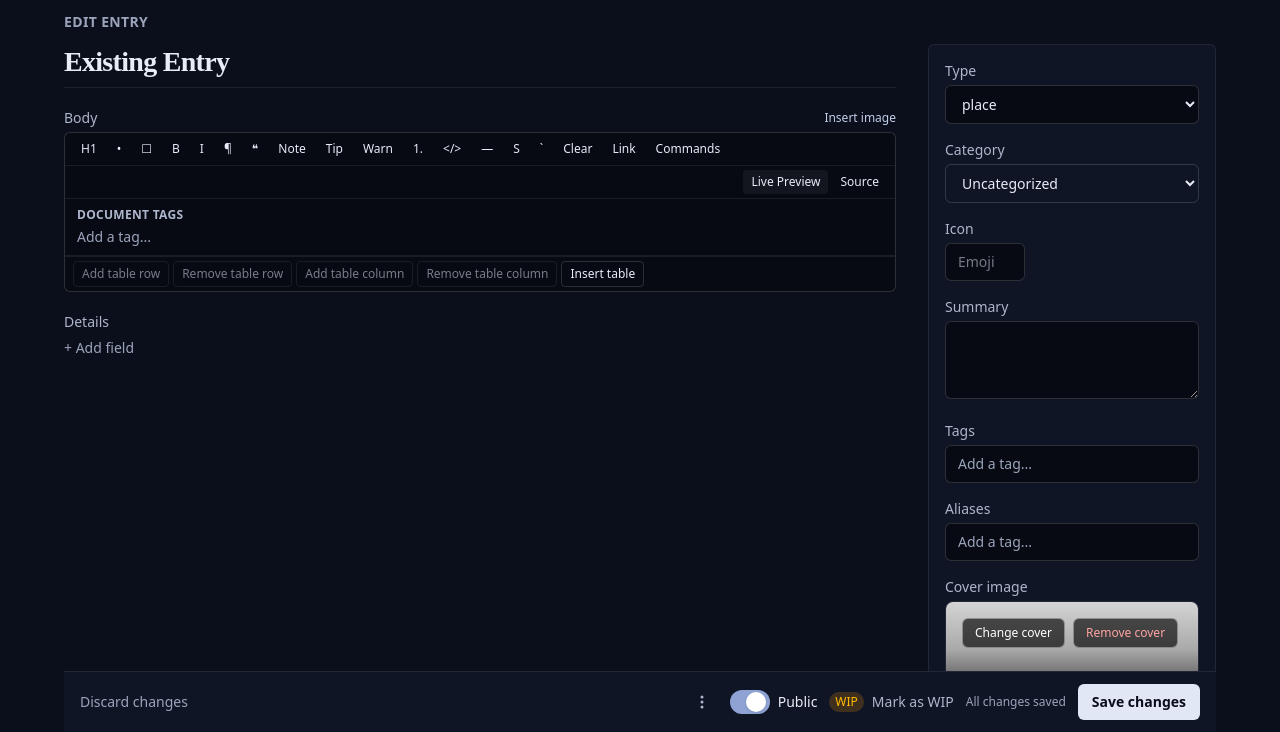
EntryEditor save status › flags changes to state kept outside the form, such as removing the cover
The width and height of the screenshot is (1280, 732).
Click the button "Remove cover" at (1126, 632), box [1073,618,1178,648]
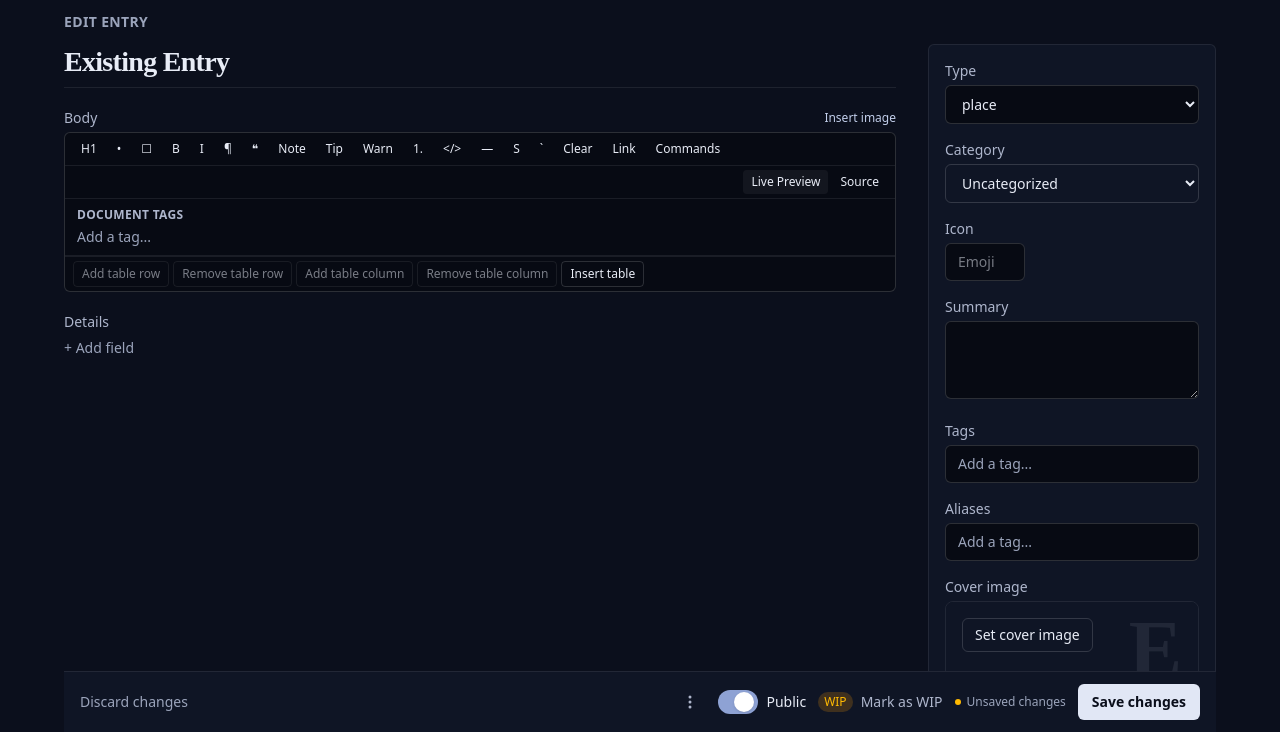
Expected: the message reads "Unsaved changes", [966,693,1066,710]
